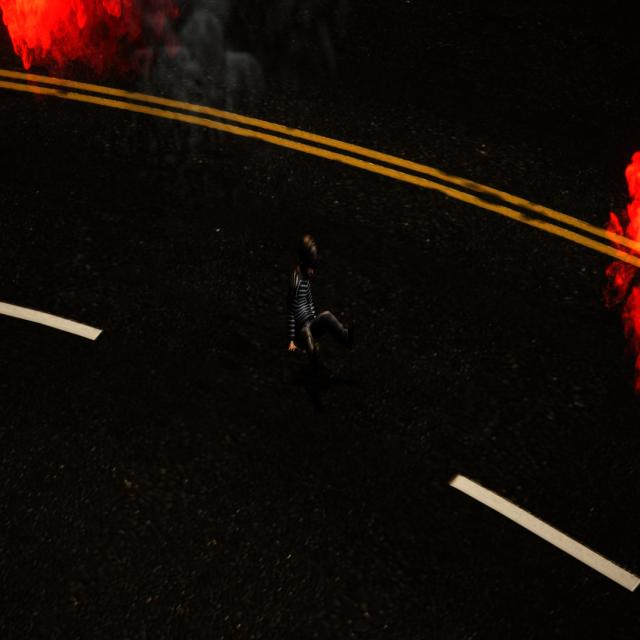Human: (283, 227, 362, 382)
